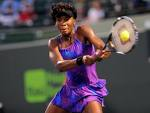tennis ball: (119, 30, 130, 42)
